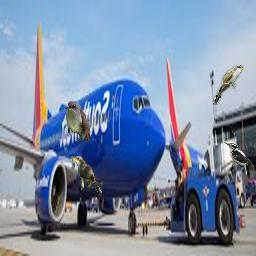Cuckoo: (213, 65, 244, 105), (71, 156, 102, 196), (65, 101, 90, 141)
Woodpecker: (224, 141, 254, 181)
